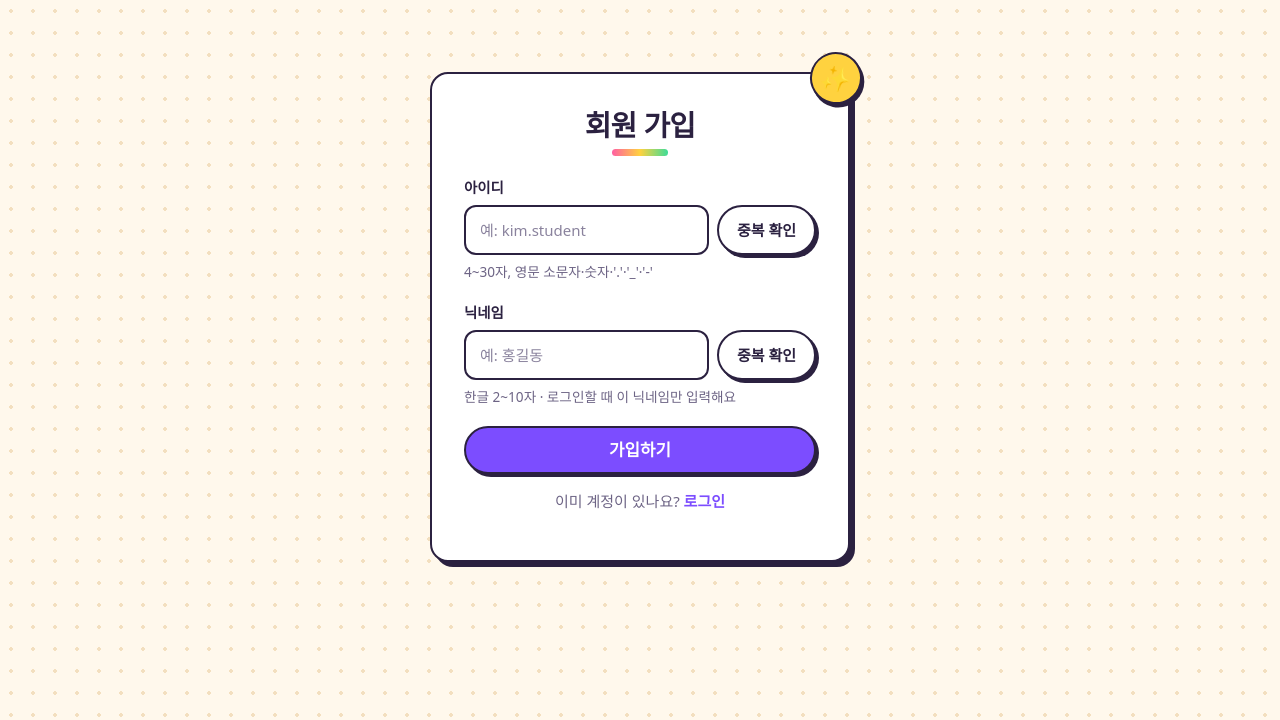
Test: TestSignupPage › validates format before checking
In the field labelled "닉네임": (586, 355) x1=464 y1=330 x2=709 y2=380, type "hong"
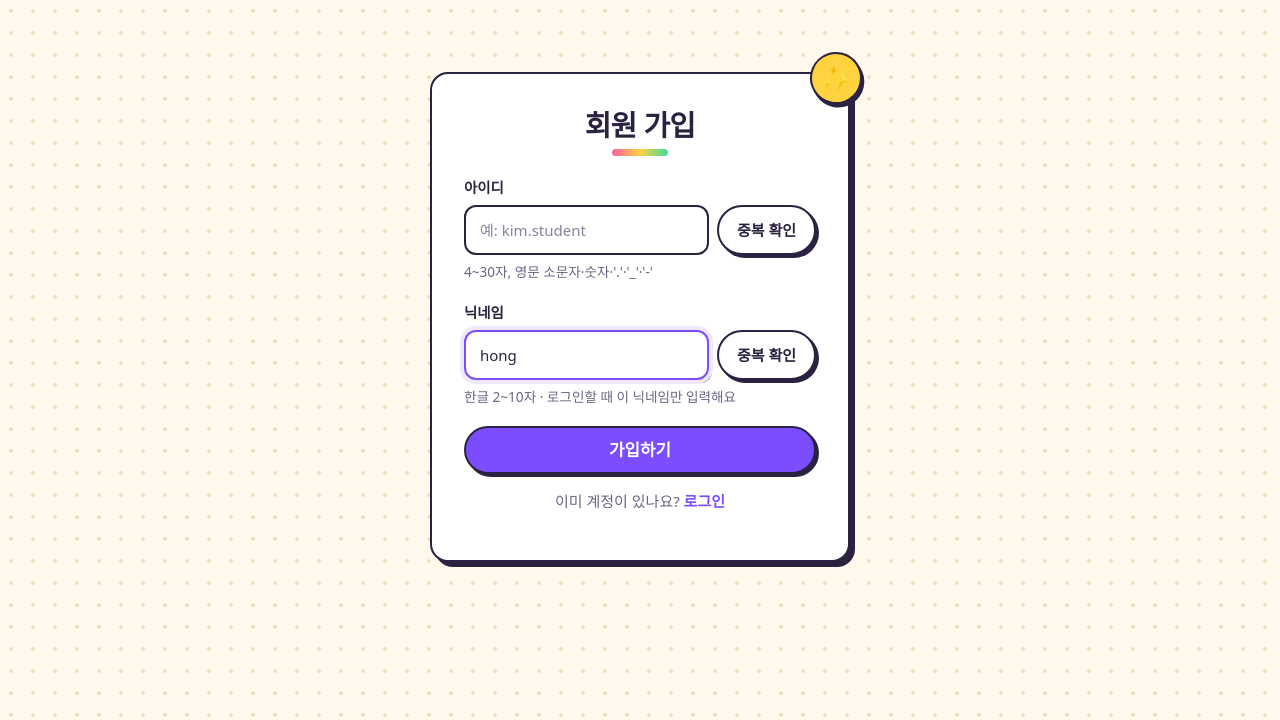
Click the button with aria-label "닉네임 중복 확인": (766, 355) x1=717 y1=330 x2=816 y2=380
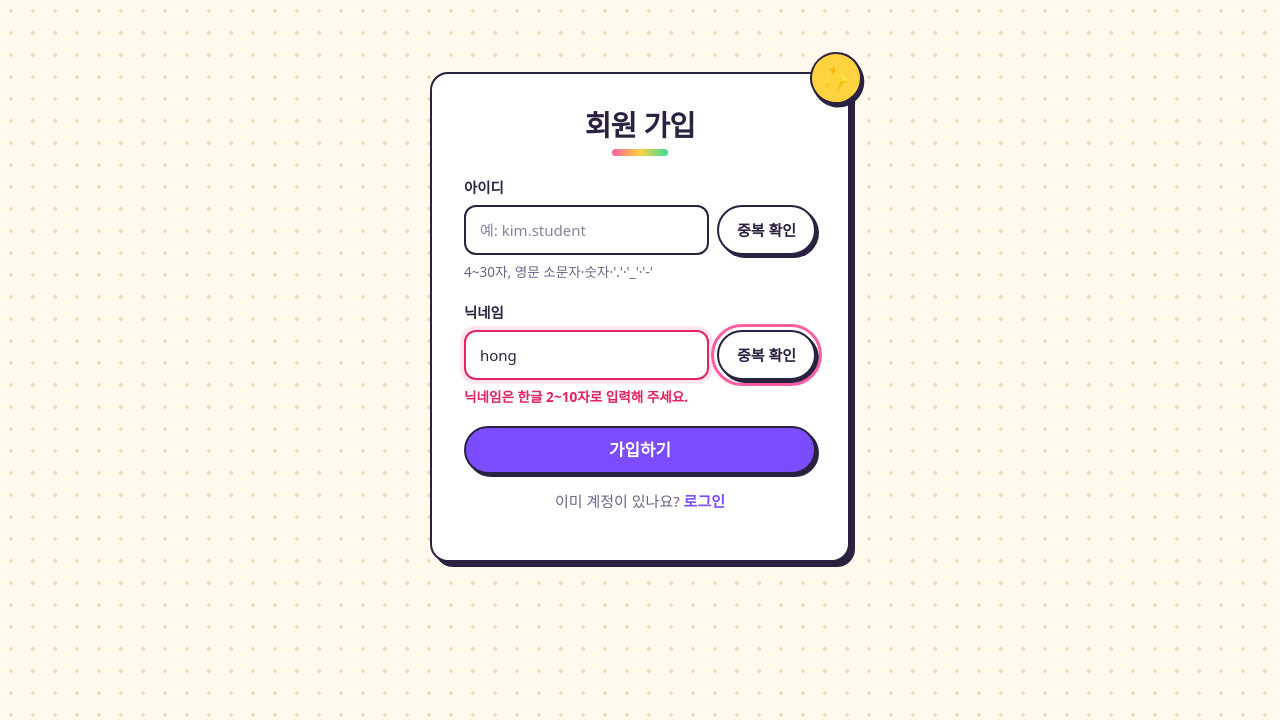
Result: the text "닉네임은 한글 2~10자로 입력해 주세요." is shown at x1=464 y1=387 x2=688 y2=406
